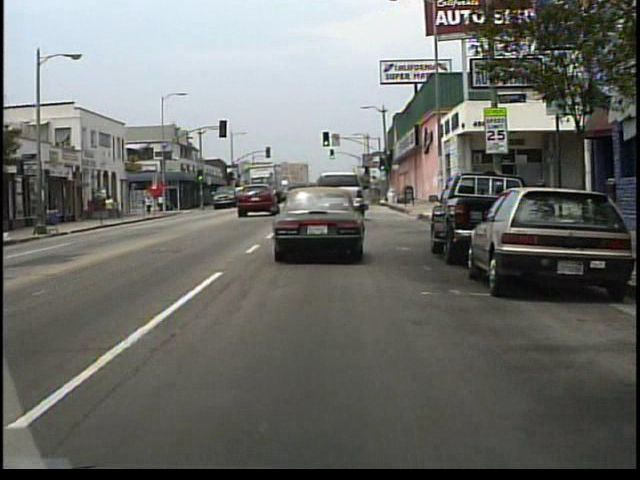person: (106, 195, 116, 221), (145, 195, 154, 216), (114, 197, 121, 219)
